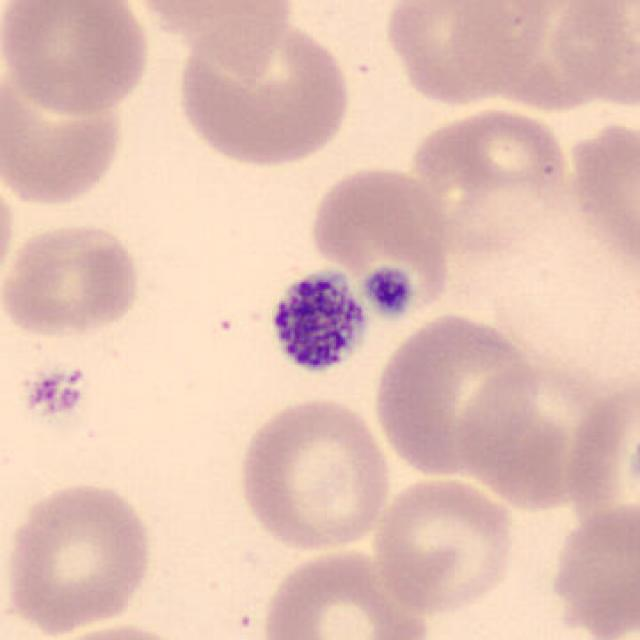Platelets: (265, 263, 370, 377), (24, 364, 93, 425), (363, 263, 416, 321)
RBC: (170, 9, 356, 171), (370, 307, 542, 481), (452, 354, 626, 515), (405, 104, 578, 261), (233, 394, 393, 556), (306, 161, 458, 326), (0, 477, 156, 636), (370, 473, 519, 617), (0, 62, 130, 212), (0, 0, 156, 118), (0, 217, 146, 340), (380, 0, 536, 109), (258, 545, 434, 640), (544, 496, 638, 638), (563, 112, 640, 280), (544, 0, 640, 111), (119, 0, 297, 42), (35, 620, 197, 640), (0, 168, 20, 296)
